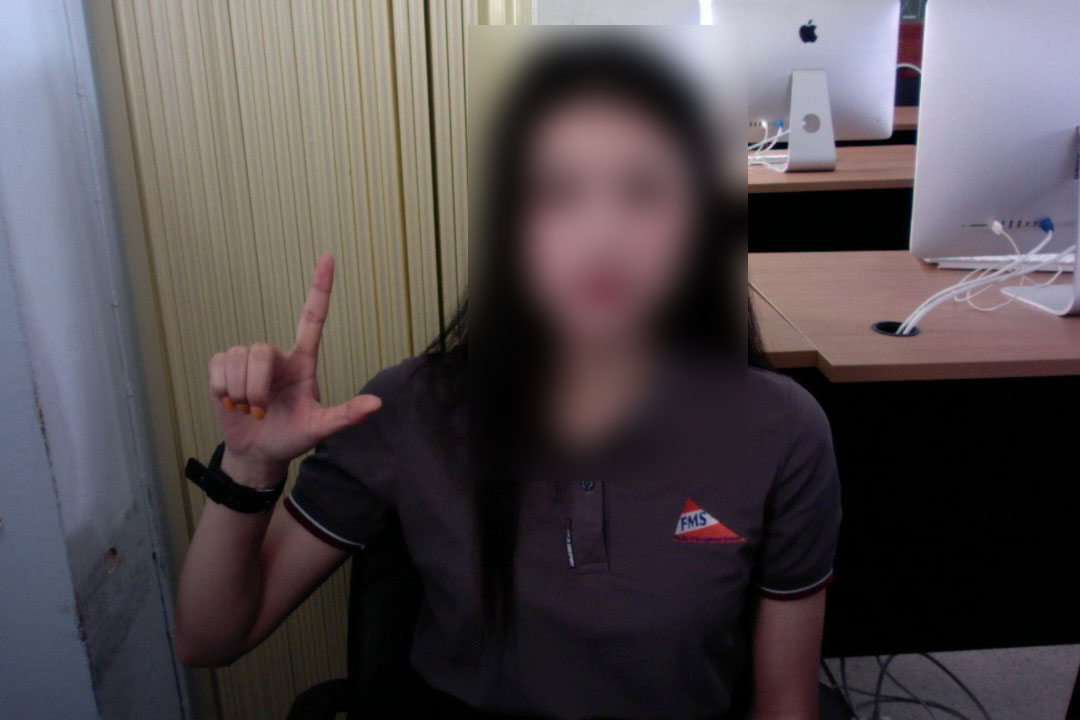lor: (181, 244, 392, 492)
